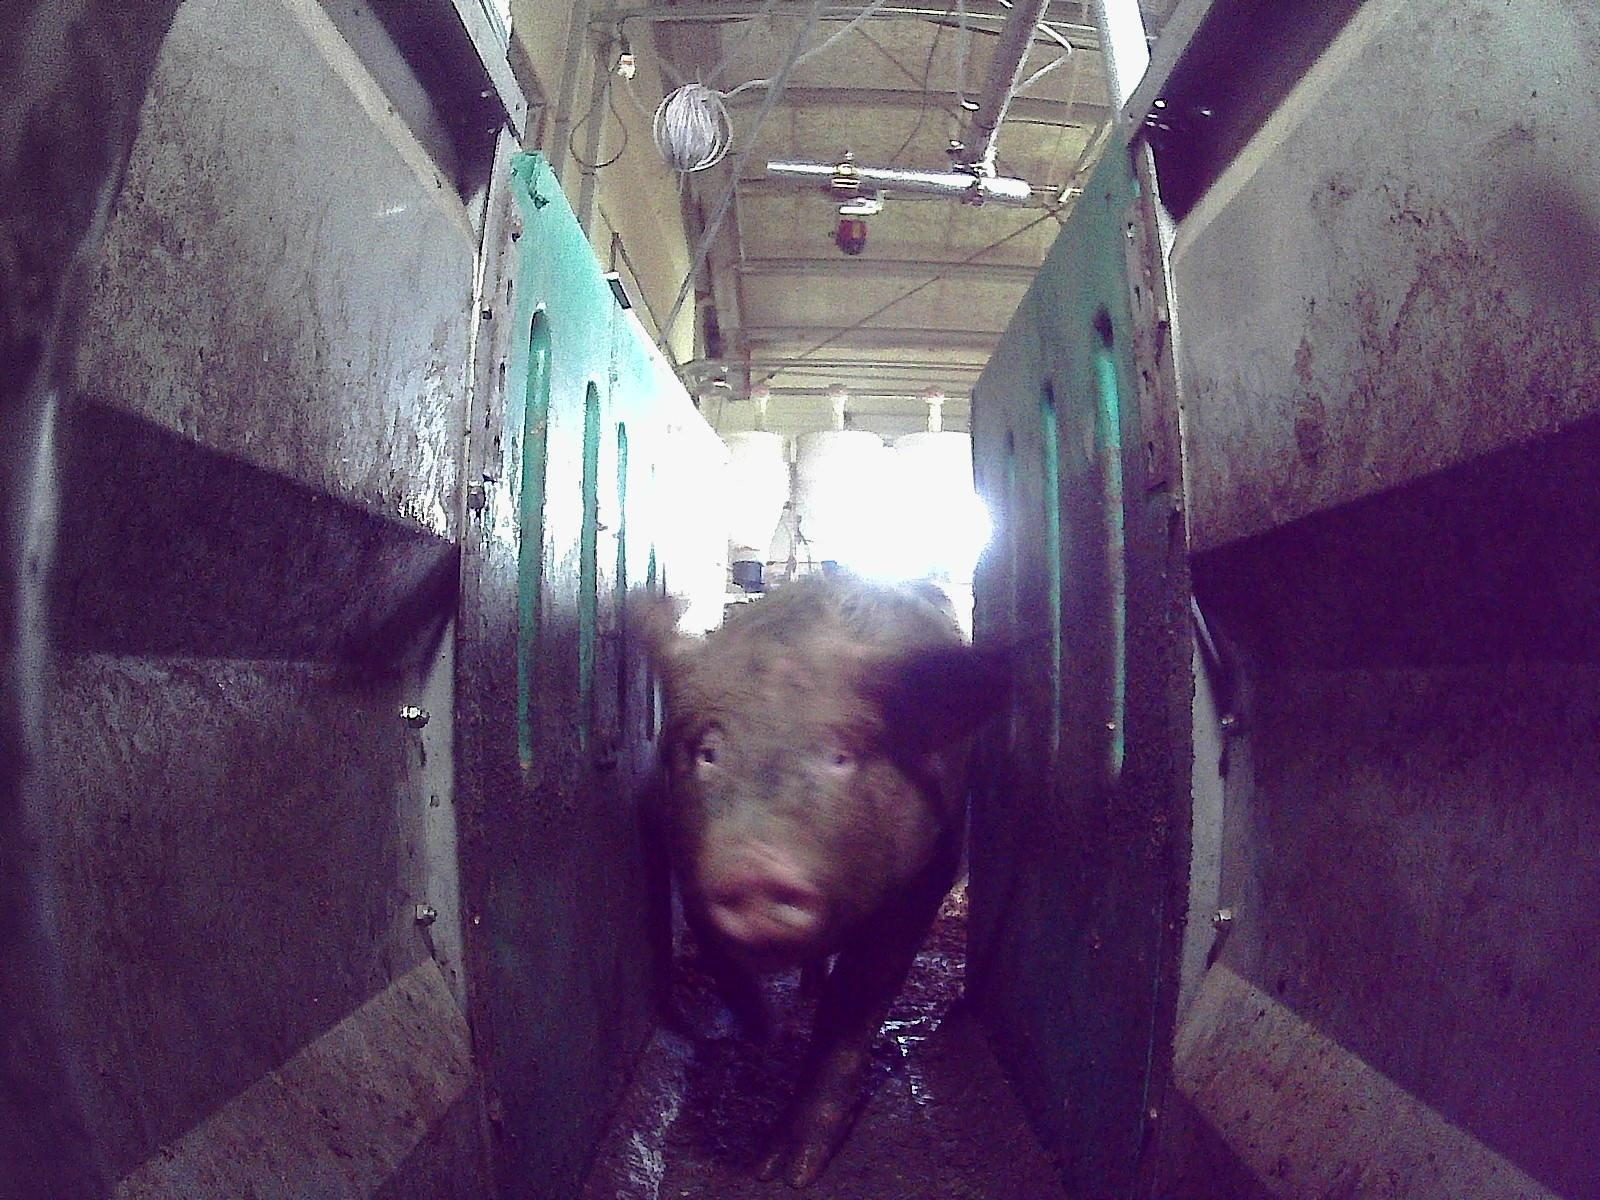Face: (654, 633, 896, 962)
